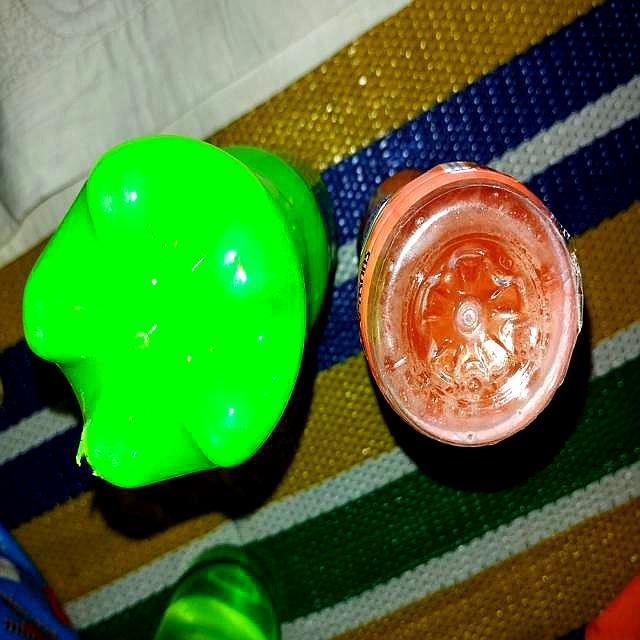Non-biodegradable: (21, 136, 333, 490), (357, 157, 584, 453), (154, 548, 279, 640)
